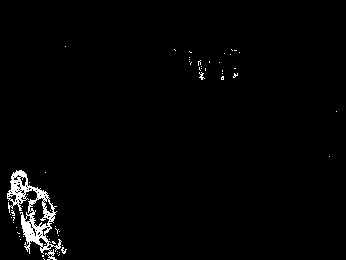person: (7, 169, 67, 260)
